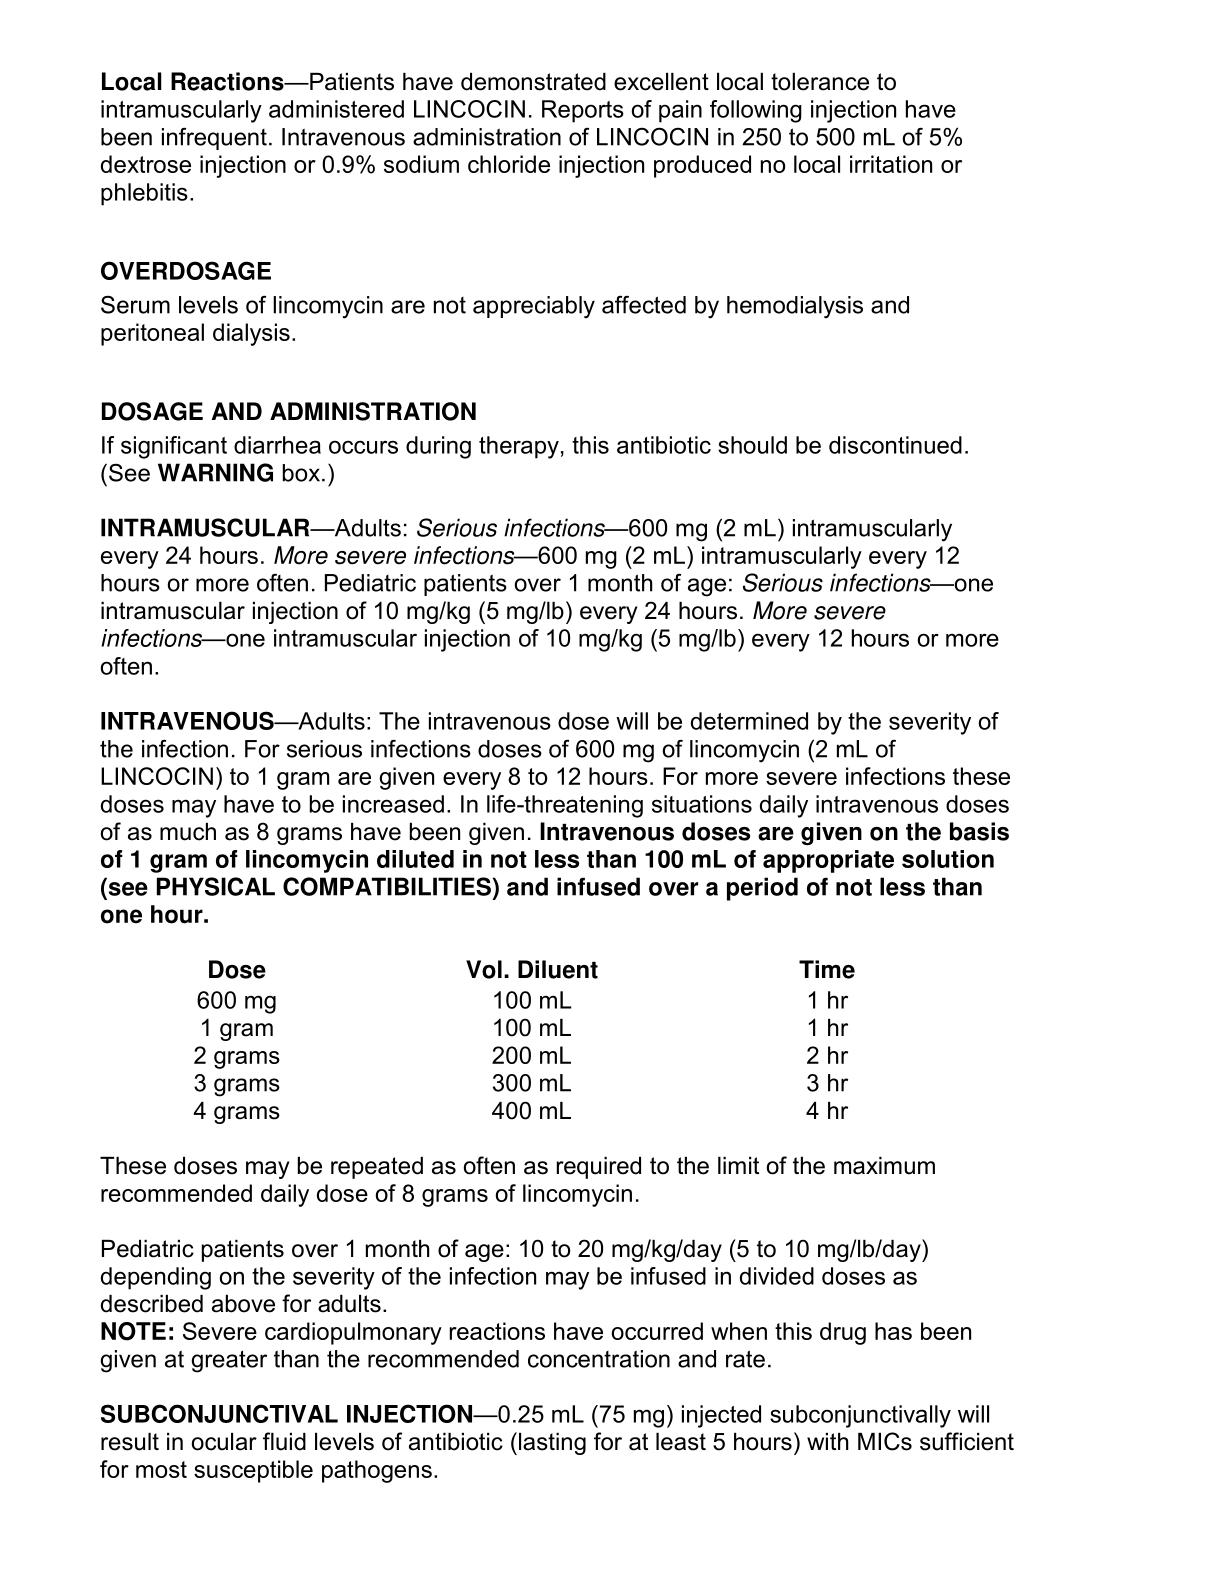nolines: (190, 954, 858, 1126)
